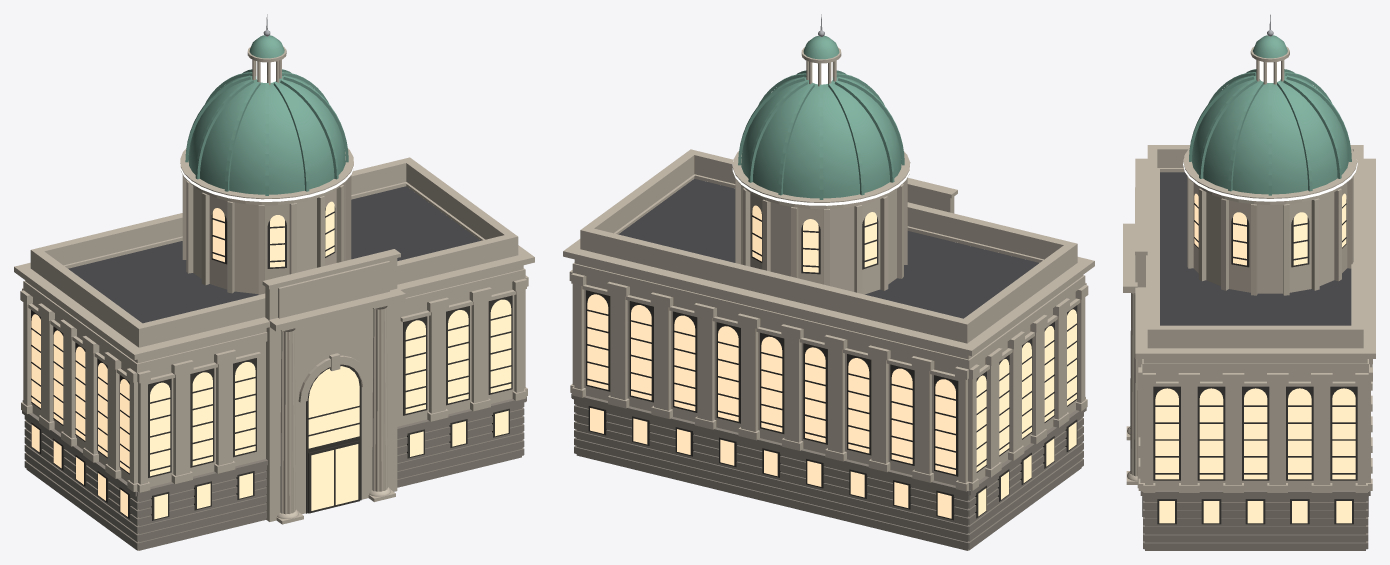
Rendered from bank-dome.glb.
3 renders of one model, left to right at view 1: azimuth 30°, elevation 25°; view 2: azimuth 150°, elevation 25°; view 3: azimuth 270°, elevation 25°, orthographic. The views are drawn at different scales.
Visible parts, largest first — view 1: Body_Limestone, Windows, Body_Stone, Body_Copper, Body_Roof, Body_Trim, Crown; view 2: Body_Limestone, Windows, Body_Stone, Body_Copper, Body_Roof, Body_Trim, Crown; view 3: Body_Limestone, Body_Copper, Windows, Body_Stone, Body_Roof, Body_Trim, Crown.
Boxes of the visible parts, box(x1,y1,x2,y2) form: Body_Limestone: box(14, 46, 534, 550); Windows: box(31, 201, 511, 519); Body_Stone: box(22, 396, 526, 550); Body_Copper: box(185, 35, 348, 195); Body_Roof: box(68, 186, 480, 323); Body_Trim: box(31, 206, 512, 520); Crown: box(180, 61, 354, 201); Body_Limestone: box(563, 47, 1094, 550); Windows: box(587, 205, 1076, 518); Body_Stone: box(571, 393, 1086, 550); Body_Copper: box(738, 35, 904, 199); Body_Roof: box(618, 178, 1038, 318); Body_Trim: box(586, 210, 1077, 520); Crown: box(732, 62, 910, 205); Body_Limestone: box(1123, 46, 1375, 492); Body_Copper: box(1189, 35, 1351, 195); Windows: box(1155, 193, 1355, 523); Body_Stone: box(1140, 490, 1370, 550); Body_Roof: box(1160, 172, 1351, 325); Body_Trim: box(1142, 199, 1368, 524); Crown: box(1183, 61, 1357, 201).
Size of the model in its own units: 9.4 by 9.96 by 5.15.
